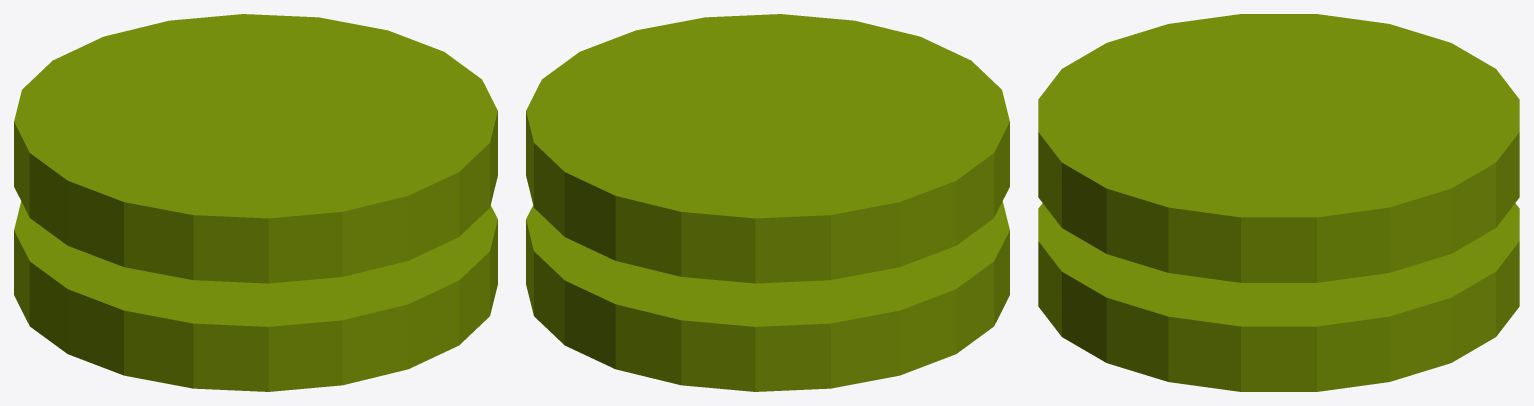
The model's file is YOYO 1.gltf.
The picture shows the model from 3 angles, left to right: view 1: azimuth 30°, elevation 25°; view 2: azimuth 150°, elevation 25°; view 3: azimuth 270°, elevation 25°; orthographic projection.
Parts seen in each view (by area): view 1: cylinder (×2); view 2: cylinder (×2); view 3: cylinder (×2).
Boxes of the visible parts, x1,y1,x2,y2 form: cylinder (×2): [14, 14, 497, 391]; cylinder (×2): [526, 14, 1009, 391]; cylinder (×2): [1038, 14, 1519, 391].
Bounding box in the file's own units: 1.25 × 0.5 × 1.25.
Materials: 2 (2 with a texture image).
